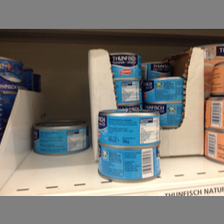fish: (96, 144, 162, 183), (97, 108, 161, 146), (32, 120, 89, 155), (143, 76, 184, 103), (109, 52, 143, 80)
